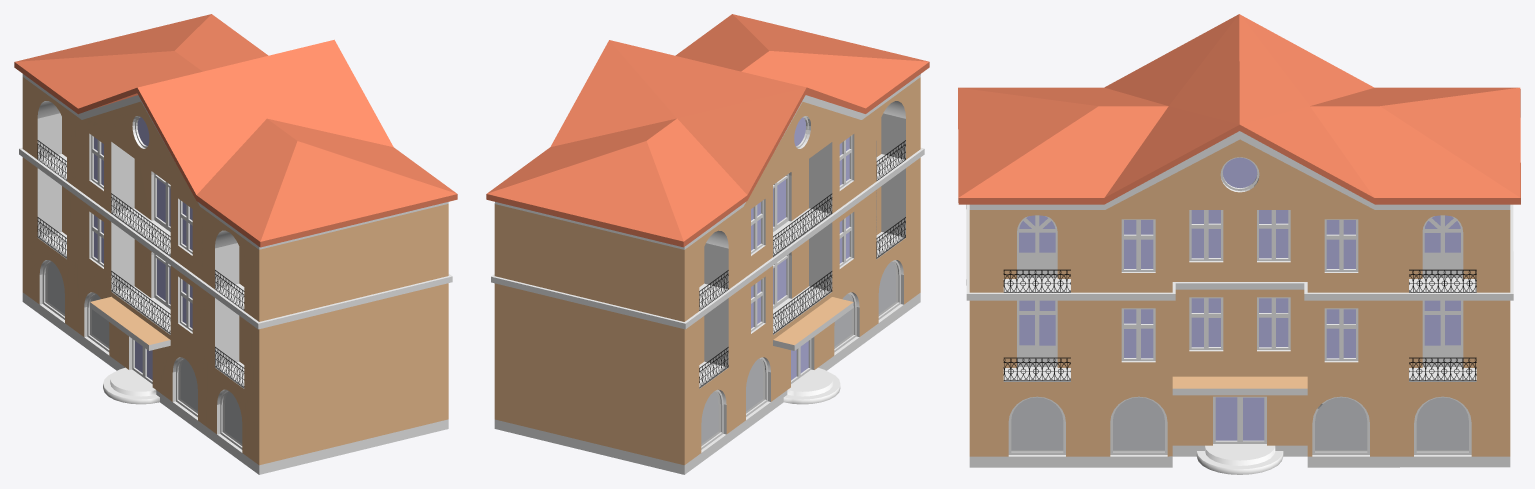
The model's file is house_new_8.glb.
The picture shows the model from 3 angles, left to right: view 1: azimuth 30°, elevation 25°; view 2: azimuth 150°, elevation 25°; view 3: azimuth 270°, elevation 25°; orthographic projection. The views are drawn at different scales.
Parts seen in each view (by area): view 1: Mesh_22.001; view 2: Mesh_22.001; view 3: Mesh_22.001.
Boxes of the visible parts, box(x1,y1,x2,y2) form: Mesh_22.001: box(14, 14, 457, 474); Mesh_22.001: box(486, 14, 929, 474); Mesh_22.001: box(958, 14, 1520, 474).
Bounding box in the file's own units: 11.52 × 14.11 × 20.83.
7 materials, 1 textured.
